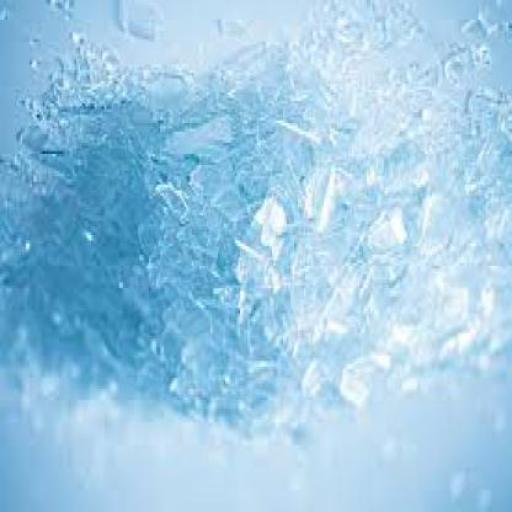glass: (9, 255, 151, 431), (127, 140, 262, 288), (293, 216, 458, 334), (385, 56, 511, 210), (24, 146, 151, 280), (221, 185, 361, 299), (274, 50, 400, 176), (15, 72, 133, 196), (380, 109, 510, 221), (156, 65, 277, 179), (48, 240, 134, 384), (270, 288, 398, 374), (238, 165, 332, 277), (200, 359, 318, 447), (309, 292, 425, 380), (75, 59, 171, 163), (0, 157, 62, 302), (110, 297, 187, 411), (218, 215, 283, 341), (151, 327, 231, 423), (436, 207, 510, 305), (444, 292, 510, 380), (337, 2, 411, 79), (54, 36, 112, 115), (261, 53, 335, 114), (283, 352, 345, 422), (424, 53, 481, 112), (332, 350, 383, 411), (395, 358, 451, 409), (466, 75, 510, 134), (452, 3, 510, 47), (313, 3, 352, 45), (116, 3, 150, 50)
